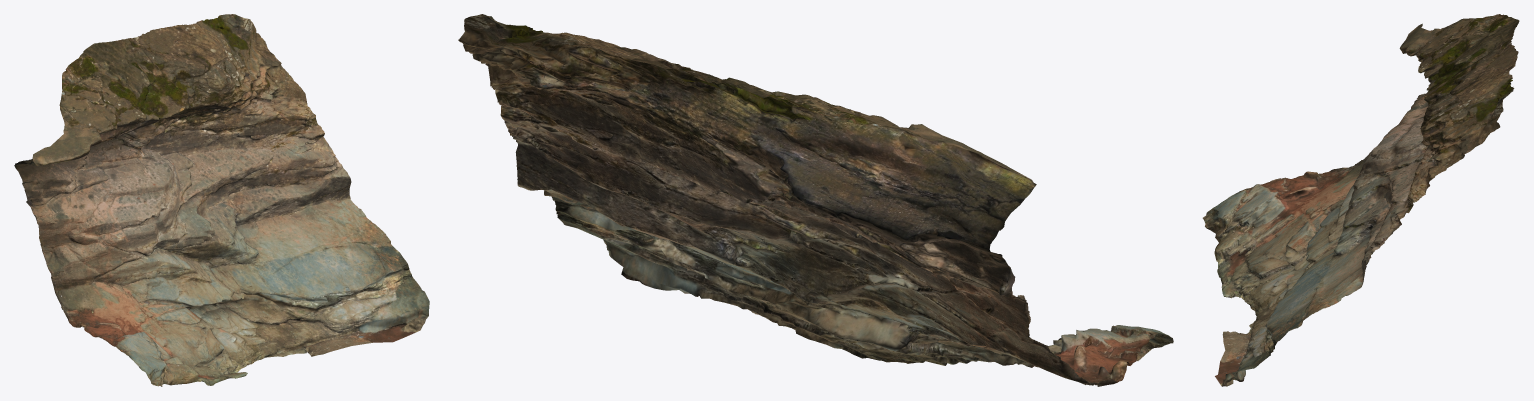
Rendered from rock_face_01.glb.
3 views of the same model, side by side, from view 1: azimuth 30°, elevation 25°; view 2: azimuth 150°, elevation 25°; view 3: azimuth 270°, elevation 25° (orthographic). The views are drawn at different scales.
Visible parts, largest first — view 1: rock_face_01; view 2: rock_face_01; view 3: rock_face_01.
Part boxes in pixels (x1=…): rock_face_01: x1=14, y1=14, x2=429, y2=386; rock_face_01: x1=458, y1=14, x2=1173, y2=386; rock_face_01: x1=1202, y1=14, x2=1519, y2=386.
Bounding box in the file's own units: 4.95 × 3.56 × 3.83.
Materials: 1 (1 with a texture image).
